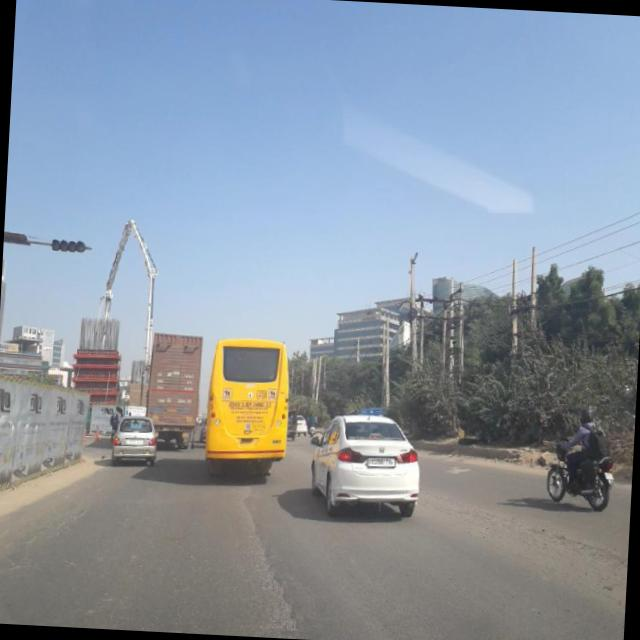crack: (0, 499, 98, 588)
